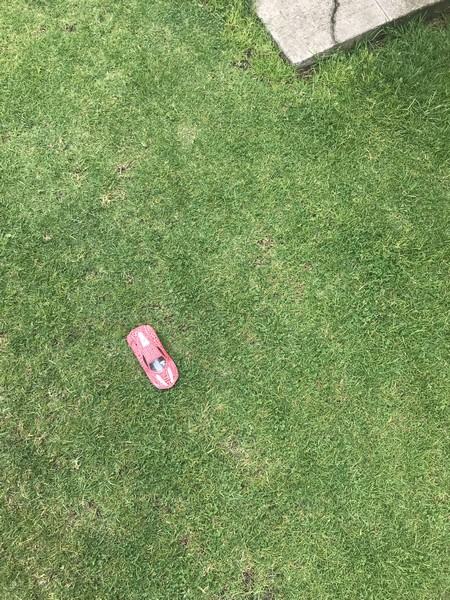RC: (125, 323, 182, 392)
